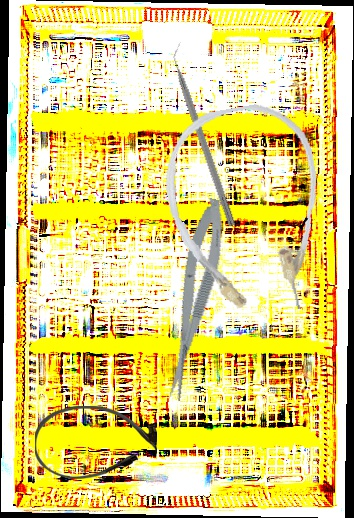Cannula: (154, 96, 339, 328), (35, 406, 157, 479)
Chopper: (166, 41, 246, 227)
Micro Scissor: (153, 195, 234, 404)
